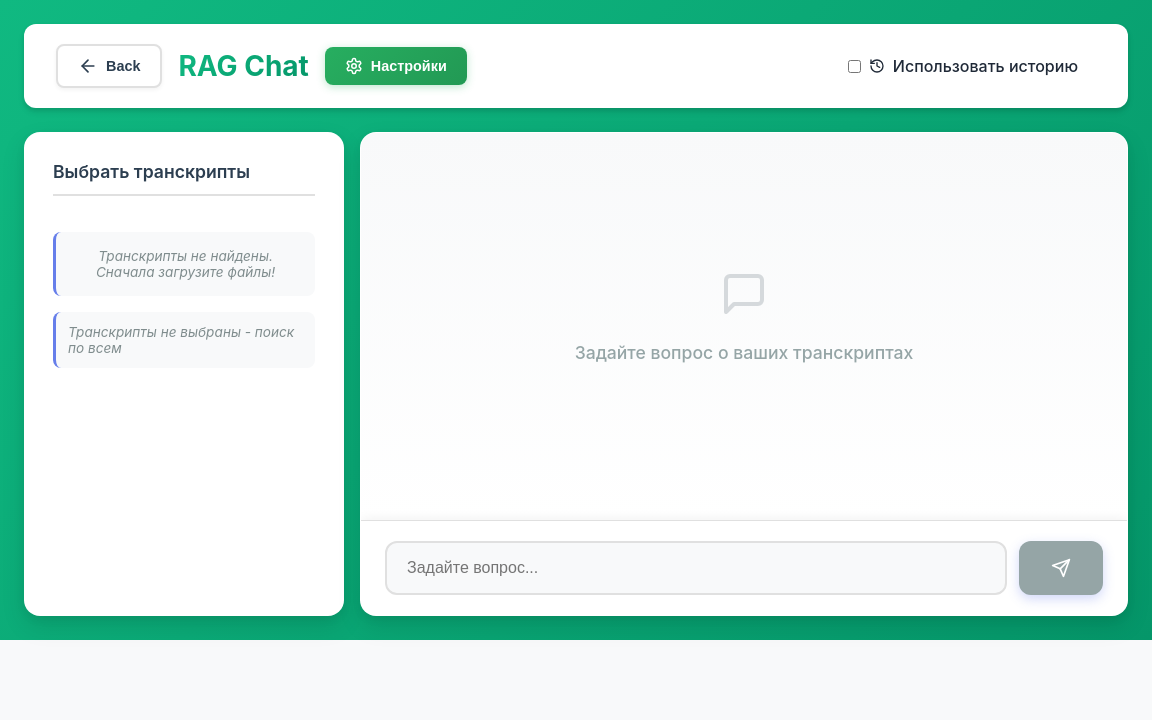
RAGChatPage › Session Management › should display session list
Click the checkbox labelled "Использовать историю". click: (854, 66)
box: x1=848 y1=60 x2=861 y2=72
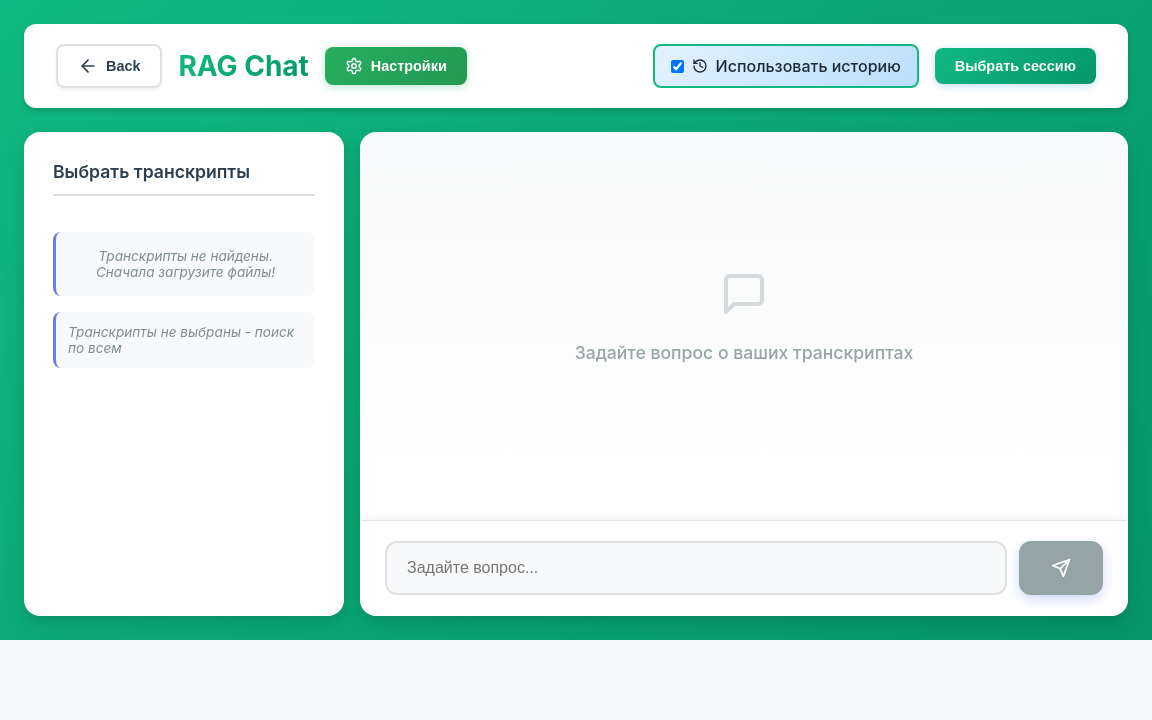
Click the button "Выбрать сессию". click: (1015, 66)
box: x1=935 y1=48 x2=1096 y2=84
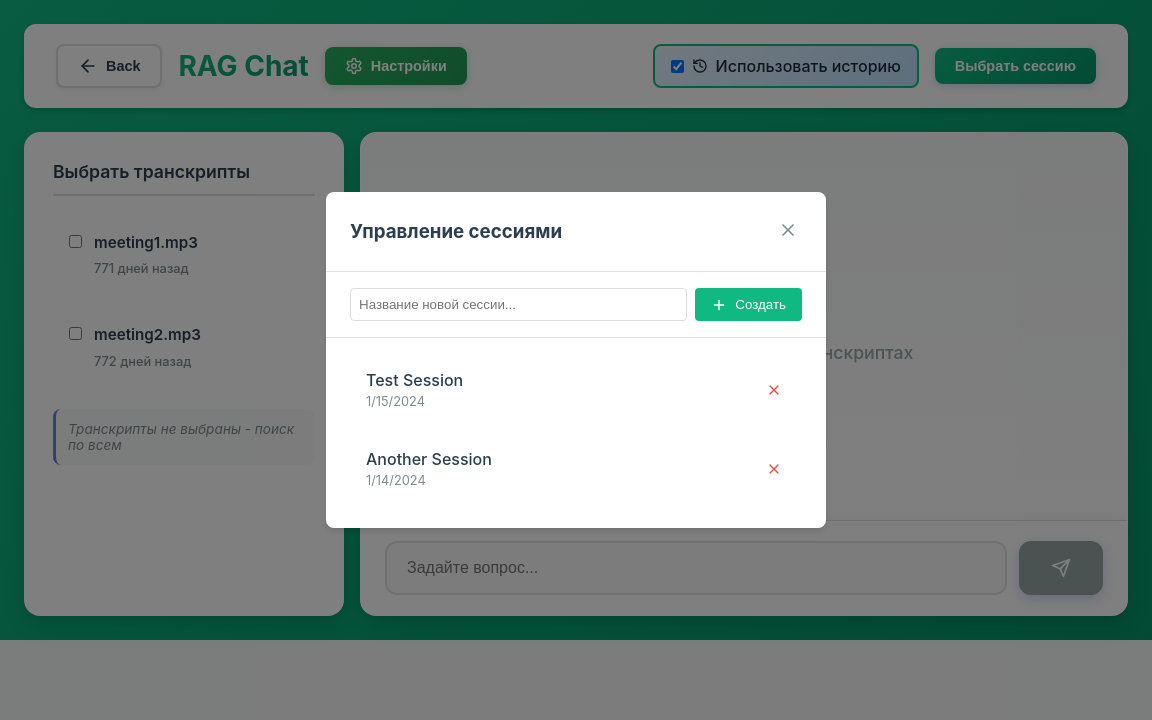
Expected: the text "Test Session" is shown, x1=366 y1=370 x2=463 y2=390
Expected: the text "Another Session" is shown, x1=366 y1=449 x2=492 y2=469
